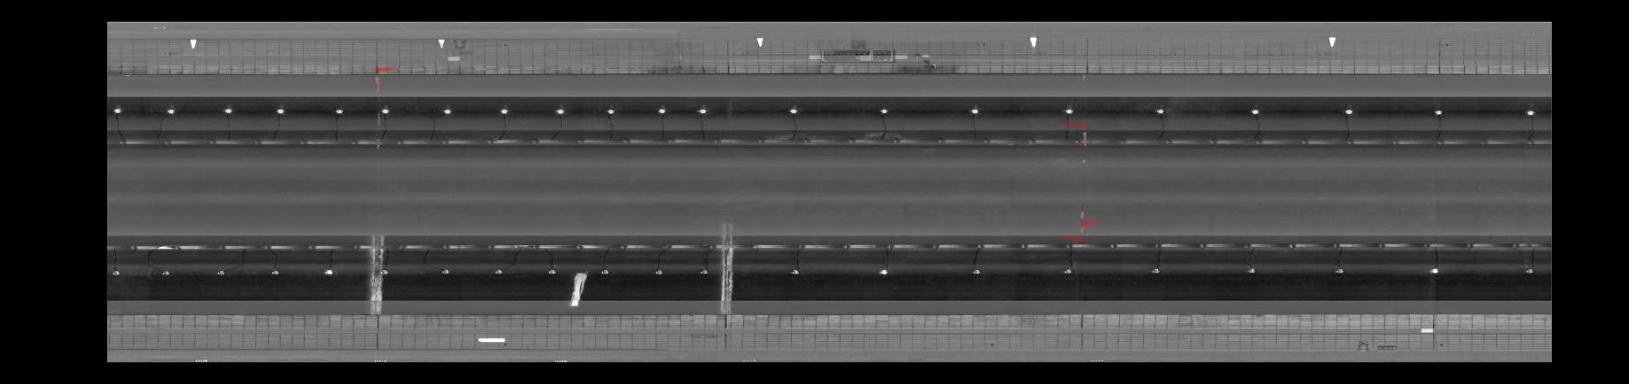light: (874, 264, 894, 278), (782, 105, 805, 117), (1330, 264, 1348, 278), (1145, 264, 1165, 277), (1058, 105, 1078, 117), (1520, 263, 1538, 277), (1246, 105, 1264, 118), (874, 104, 892, 117), (967, 265, 986, 278), (1426, 263, 1443, 277), (490, 265, 508, 278), (1241, 264, 1260, 276), (157, 264, 172, 278), (965, 105, 983, 117), (786, 267, 805, 278), (110, 265, 124, 280), (1151, 105, 1168, 117), (1430, 107, 1449, 117), (1339, 106, 1357, 117), (1059, 267, 1076, 278), (438, 105, 456, 116), (552, 105, 569, 116), (320, 265, 336, 277), (163, 104, 179, 116), (1522, 107, 1539, 118), (219, 105, 237, 115), (655, 105, 670, 116), (603, 105, 618, 116), (266, 266, 282, 277), (272, 105, 288, 116), (497, 105, 512, 116), (543, 267, 560, 277), (596, 266, 610, 278), (696, 267, 711, 278), (652, 267, 667, 278), (438, 267, 453, 278), (110, 105, 125, 116), (694, 105, 711, 114), (213, 267, 226, 278), (331, 105, 345, 116), (378, 104, 393, 114), (379, 267, 392, 277)
